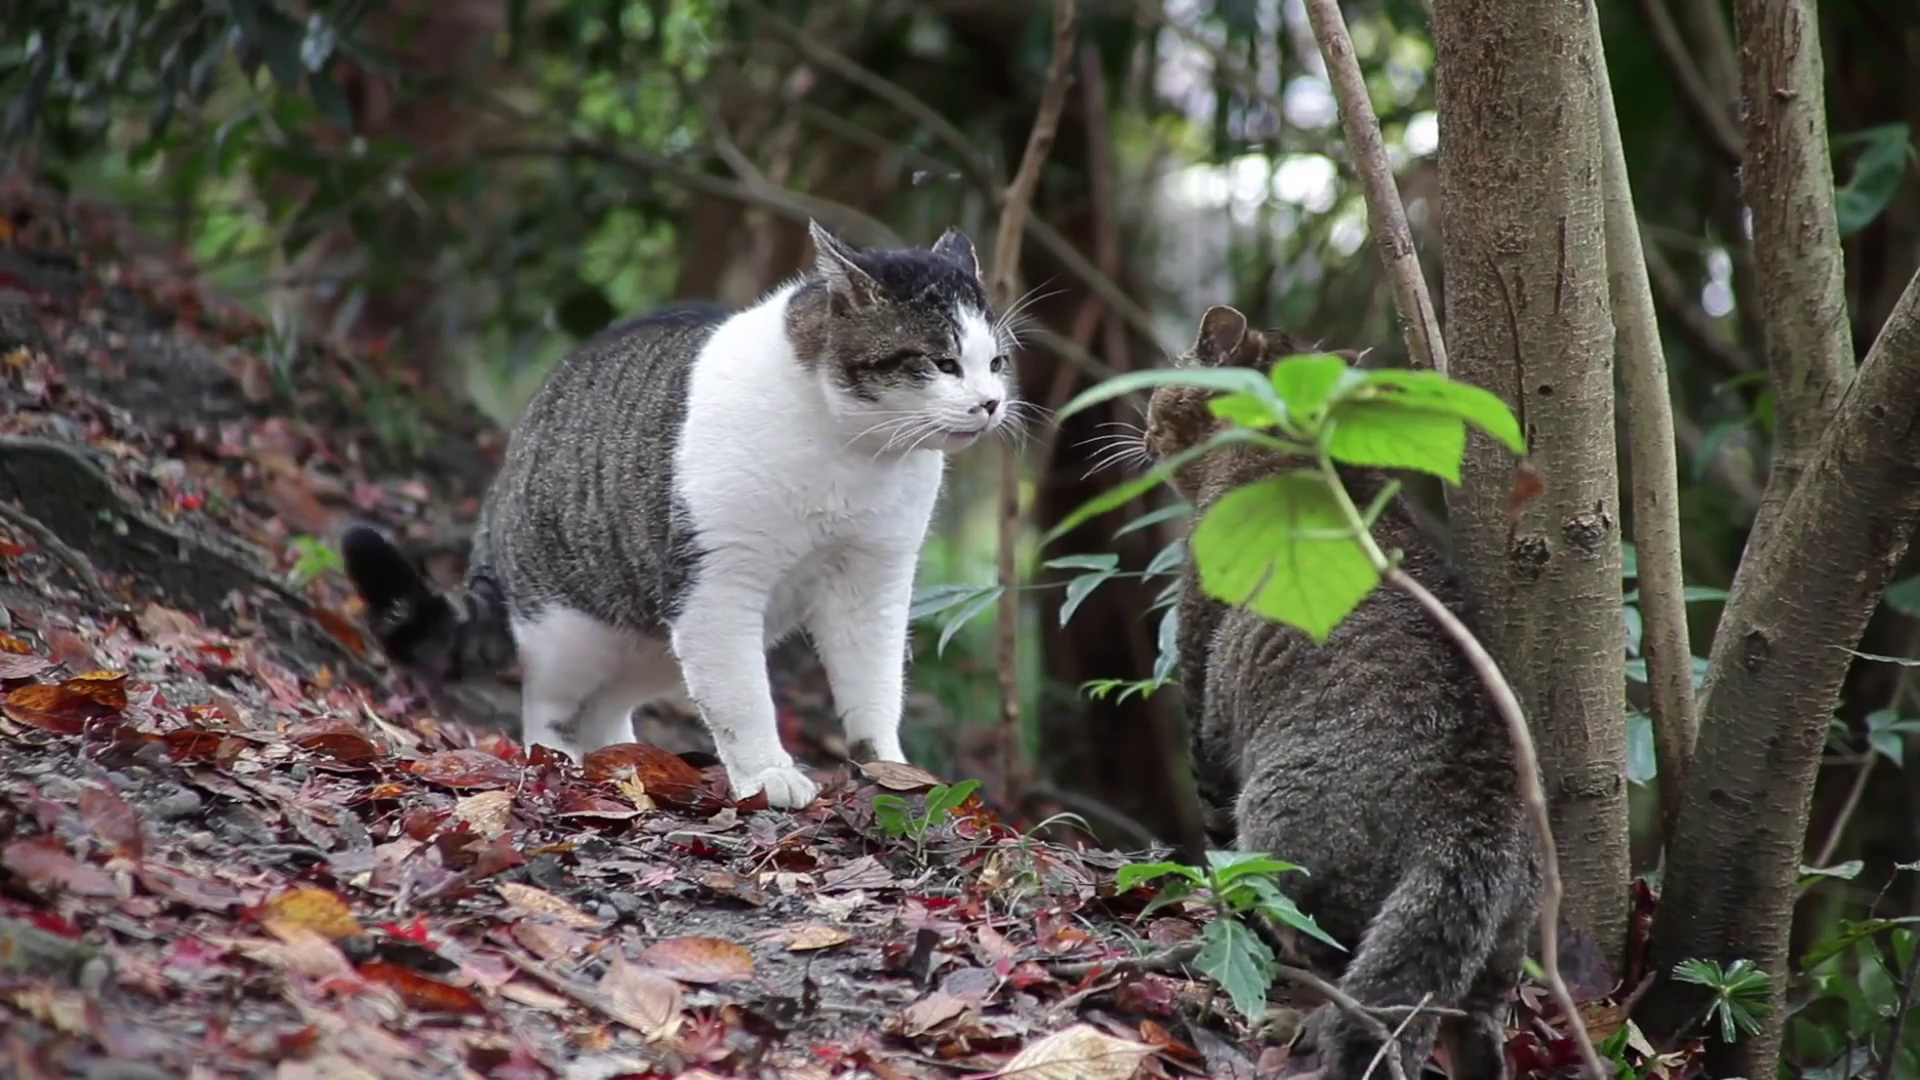black-white: (342, 216, 1005, 810)
pure black: (1141, 303, 1532, 1080)
